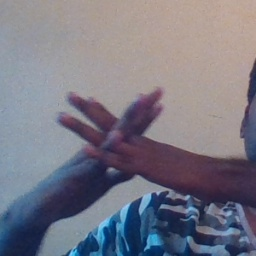W: (52, 75, 176, 212)
